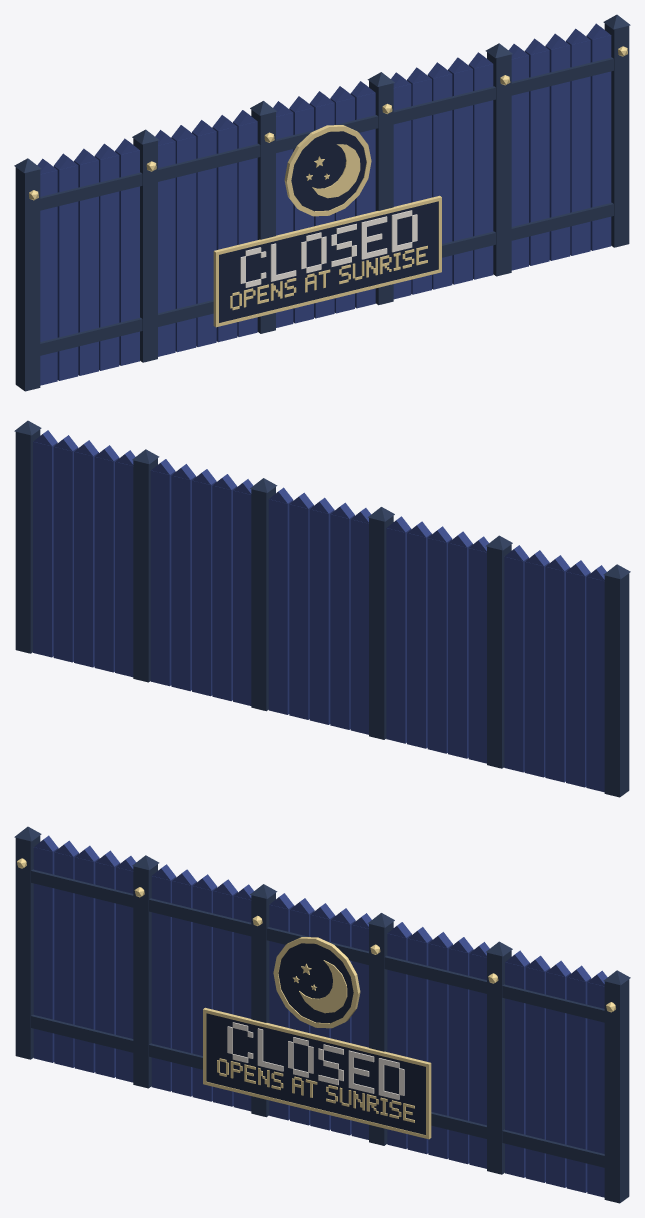
File: CatCafe_Neighbourhood_NightFenceF85.fbx
3 views of the same model, one above another, from view 1: azimuth 30°, elevation 25°; view 2: azimuth 150°, elevation 25°; view 3: azimuth 330°, elevation 25° (orthographic).
Parts seen in each view (by area): view 1: CatCafe_Neighbourhood_NightFenceF85, CatCafe_Neighbourhood_NightFenceF85_Moon_Bulb; view 2: CatCafe_Neighbourhood_NightFenceF85; view 3: CatCafe_Neighbourhood_NightFenceF85, CatCafe_Neighbourhood_NightFenceF85_Moon_Bulb.
Boxes of the visible parts, box(x1,y1,x2,y2) form: CatCafe_Neighbourhood_NightFenceF85: box(14, 14, 630, 391); CatCafe_Neighbourhood_NightFenceF85_Moon_Bulb: box(29, 46, 627, 327); CatCafe_Neighbourhood_NightFenceF85: box(14, 420, 630, 797); CatCafe_Neighbourhood_NightFenceF85: box(14, 826, 630, 1203); CatCafe_Neighbourhood_NightFenceF85_Moon_Bulb: box(17, 858, 615, 1139).
Bounding box in the file's own units: 24.06 × 8.64 × 0.9251.
Materials: 1 (1 with a texture image).
